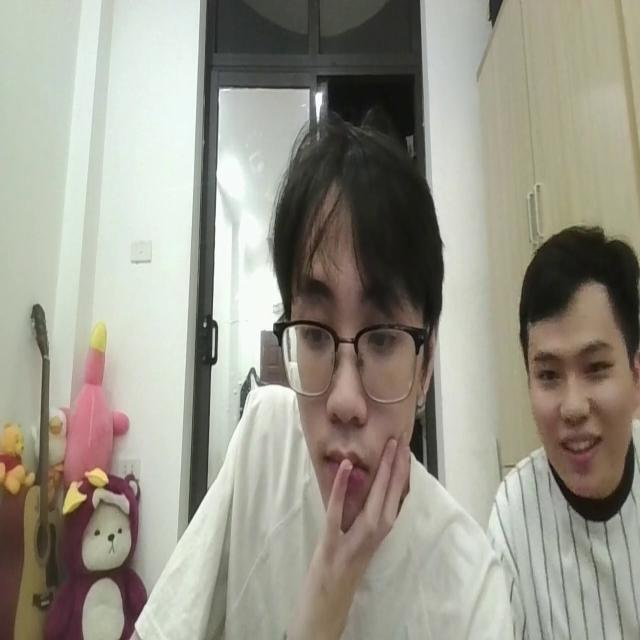extra_person: (485, 210, 640, 640)
student: (116, 120, 512, 640)
